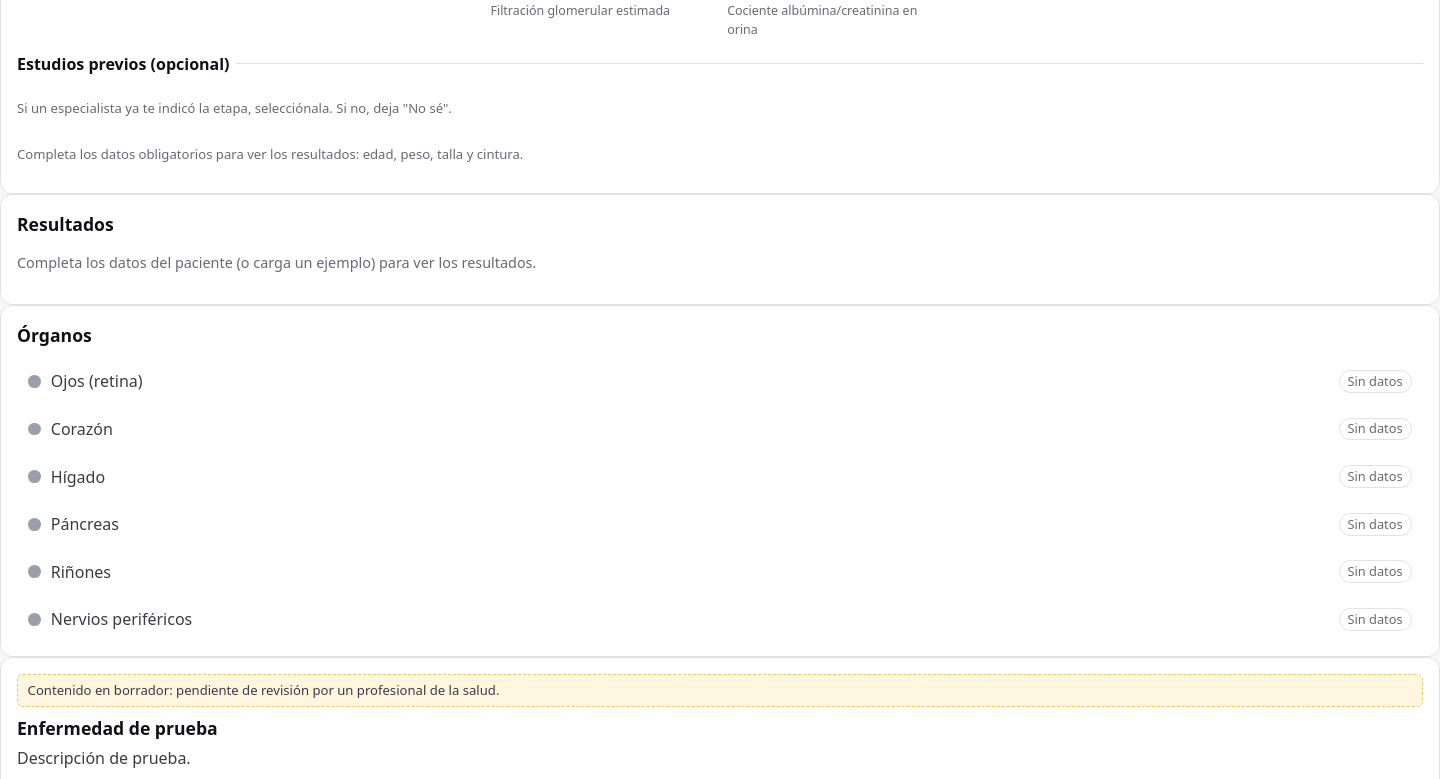
Test: panel de detalle › F2-06: órgano sin afectación descrita → mensaje, no panel vacío
This screenshot has width=1440, height=779.
(page scrolled)
Click the button "Ojos (retina) Sin datos". click: [97, 381]
box: [17,360,1423,402]
(page scrolled)
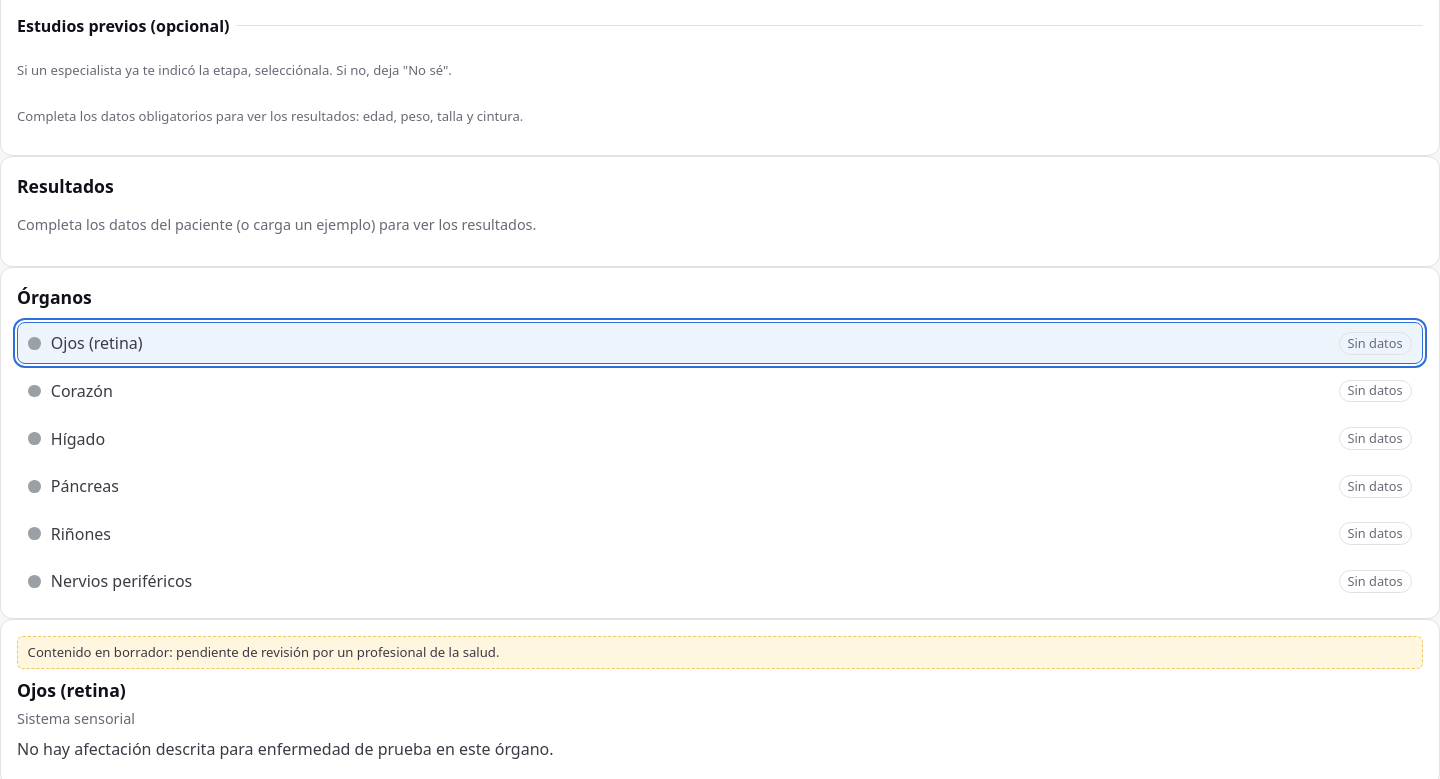
Expected: the text "No hay afectación descrita" is shown, [17,738,258,760]
